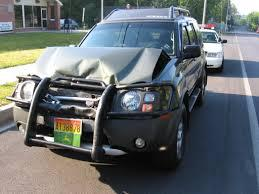bonnet-dent: (39, 44, 157, 87)
front-bumper-dent: (12, 107, 109, 154)
